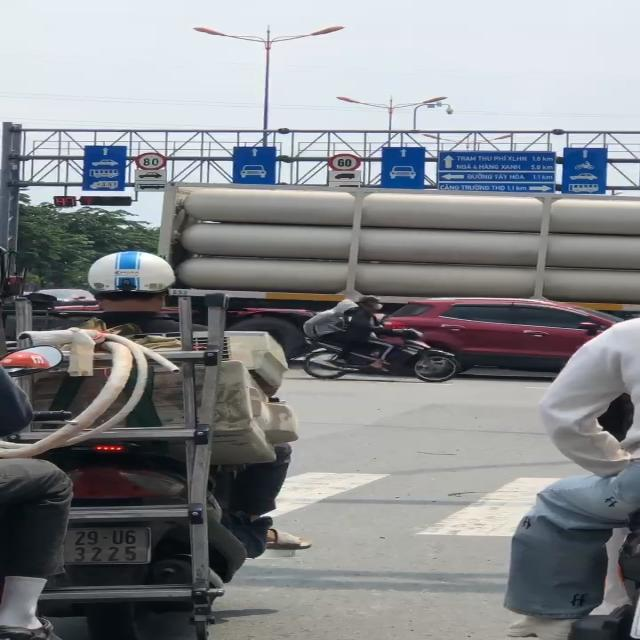Bien bao toc do toi da cho phep: (326, 150, 367, 173), (134, 152, 178, 172)
